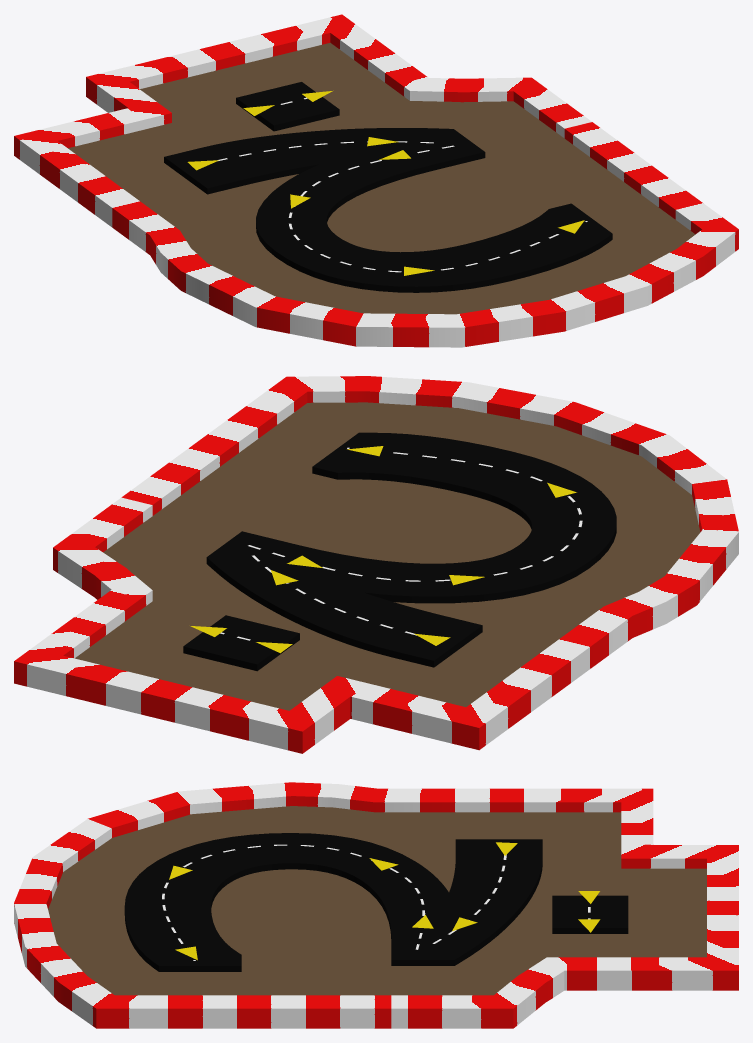
File: khah.FBX
3 views of the same model, one above another, from view 1: azimuth 30°, elevation 25°; view 2: azimuth 150°, elevation 25°; view 3: azimuth 270°, elevation 25° (orthographic). The views are drawn at different scales.
Visible parts, largest first — view 1: kha2_floor, kha2_coll, kha2; view 2: kha2_floor, kha2_coll, kha2; view 3: kha2_floor, kha2_coll, kha2, line1.
Part boxes in pixels (<box>): kha2_floor: <box>68,42,695,314</box>; kha2_coll: <box>14,14,738,347</box>; kha2: <box>164,82,612,292</box>; kha2_floor: <box>75,402,700,710</box>; kha2_coll: <box>14,376,738,753</box>; kha2: <box>183,432,616,671</box>; kha2_floor: <box>48,806,706,995</box>; kha2_coll: <box>14,782,738,1028</box>; kha2: <box>124,833,628,971</box>; line1: <box>162,844,425,960</box>.
Size of the model in its own units: 800 by 32.77 by 1082.
